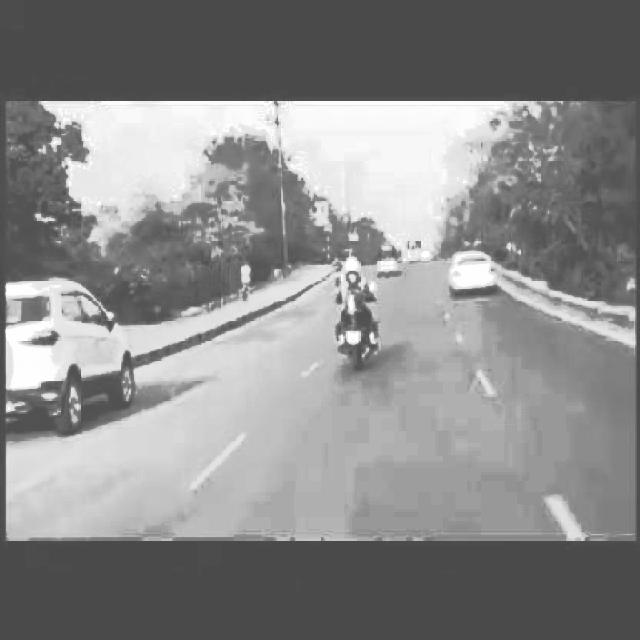Car: (6, 275, 146, 433), (443, 232, 499, 303)
